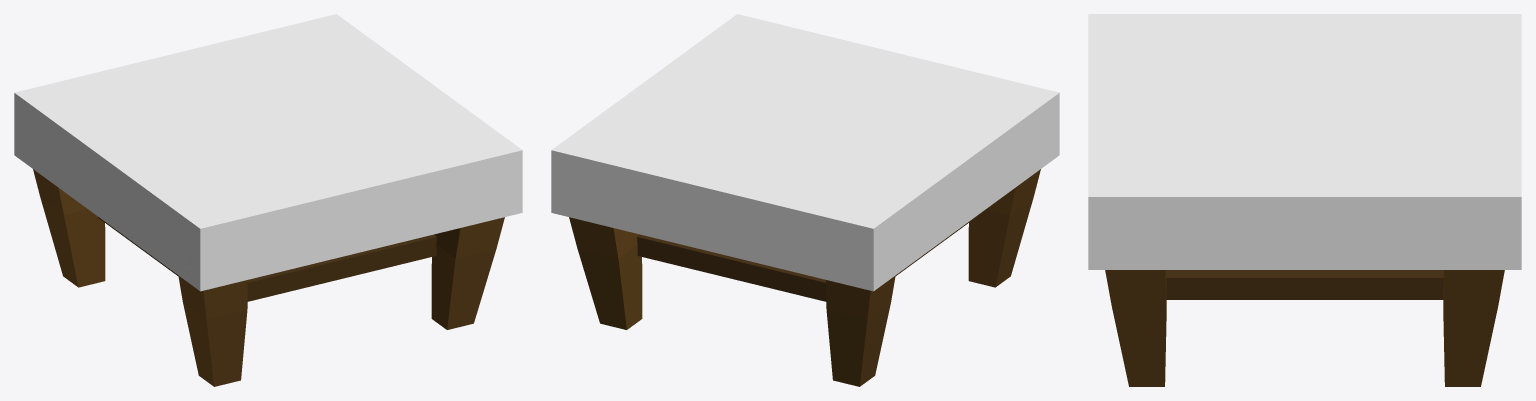
3 renders of one model, left to right at view 1: azimuth 30°, elevation 25°; view 2: azimuth 150°, elevation 25°; view 3: azimuth 270°, elevation 25°, orthographic. The views are drawn at different scales.
Visible parts, largest first — view 1: Kostka.002; view 2: Kostka.002; view 3: Kostka.002.
Part boxes in pixels (x1,y1,x2,y2): Kostka.002: (14,14,522,386); Kostka.002: (551,14,1059,386); Kostka.002: (1088,14,1521,386).
Bounding box in the file's own units: 268 × 142 × 268.
1 material, 1 textured.
